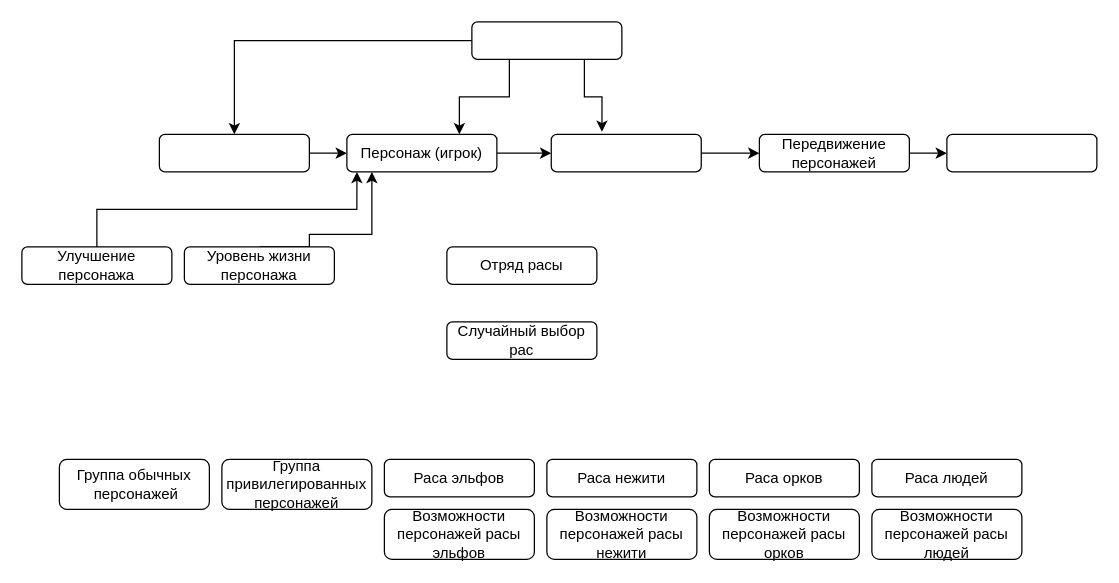
This 1119x583 diagram has some shape labels left out. The box of each missing label's shape, as (x1, y1, x2, y2) in pixels:
Heroes: (471, 21, 622, 59)
Действия персонажей: (158, 133, 309, 172)
Персонаж (компьютер): (550, 133, 701, 172)
Статистика ходов: (946, 133, 1097, 172)
